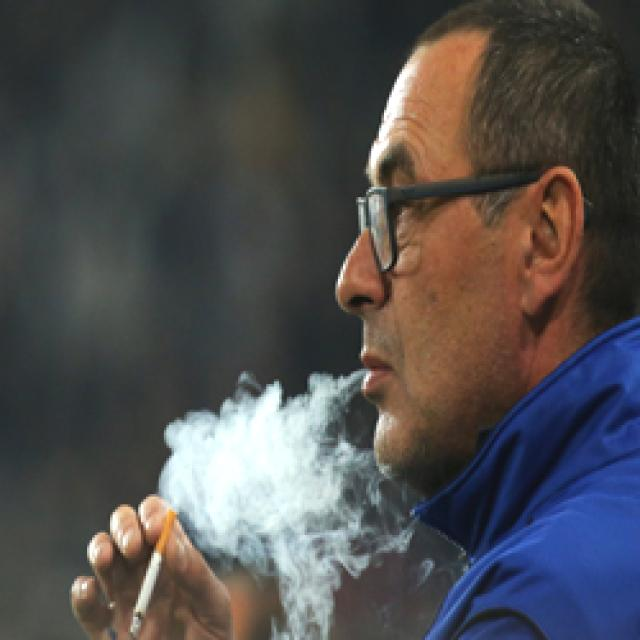Smooking: (97, 484, 184, 640)
